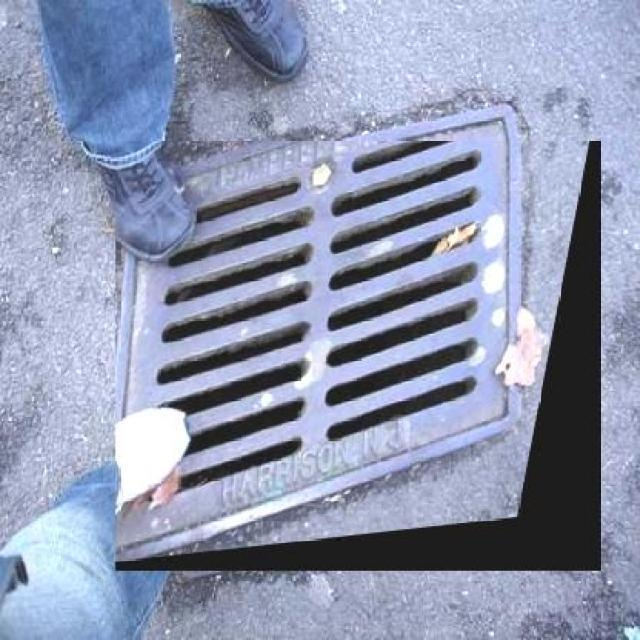Manhole: (115, 140, 600, 571)
